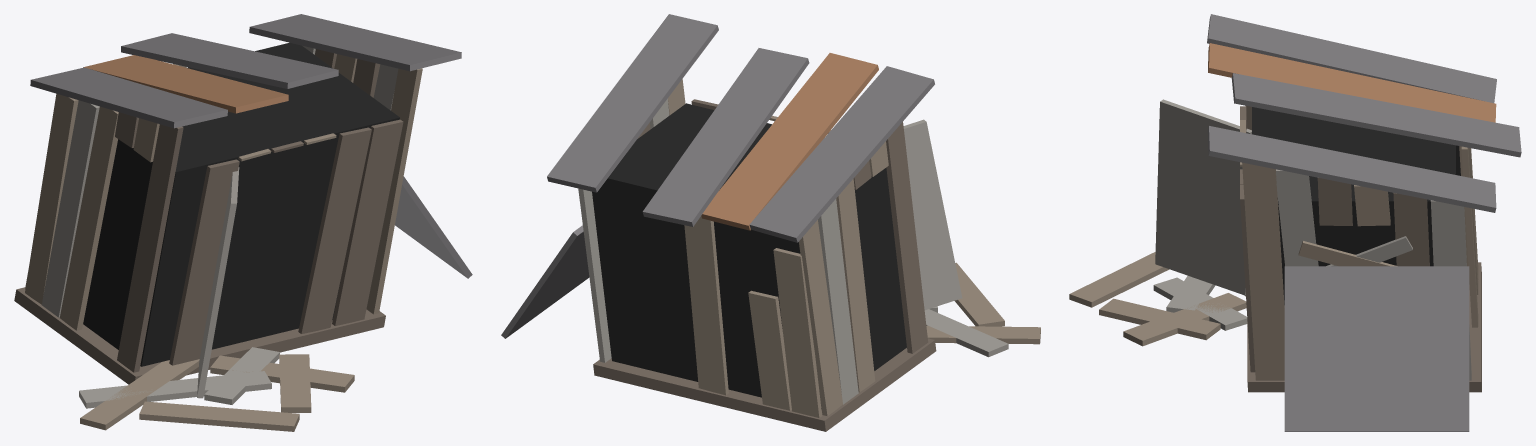
The model's file is Shack_Abandoned_B.fbx.
3 renders of one model, left to right at view 1: azimuth 30°, elevation 25°; view 2: azimuth 150°, elevation 25°; view 3: azimuth 270°, elevation 25°, orthographic. The views are drawn at different scales.
Parts seen in each view (by area): view 1: Shack_Abandoned_B; view 2: Shack_Abandoned_B; view 3: Shack_Abandoned_B.
Boxes of the visible parts, x1=… form: Shack_Abandoned_B: x1=14, y1=14, x2=472, y2=431; Shack_Abandoned_B: x1=501, y1=14, x2=1040, y2=431; Shack_Abandoned_B: x1=1069, y1=14, x2=1521, y2=431.
Size of the model in its own units: 4.05 by 2.42 by 3.67.
